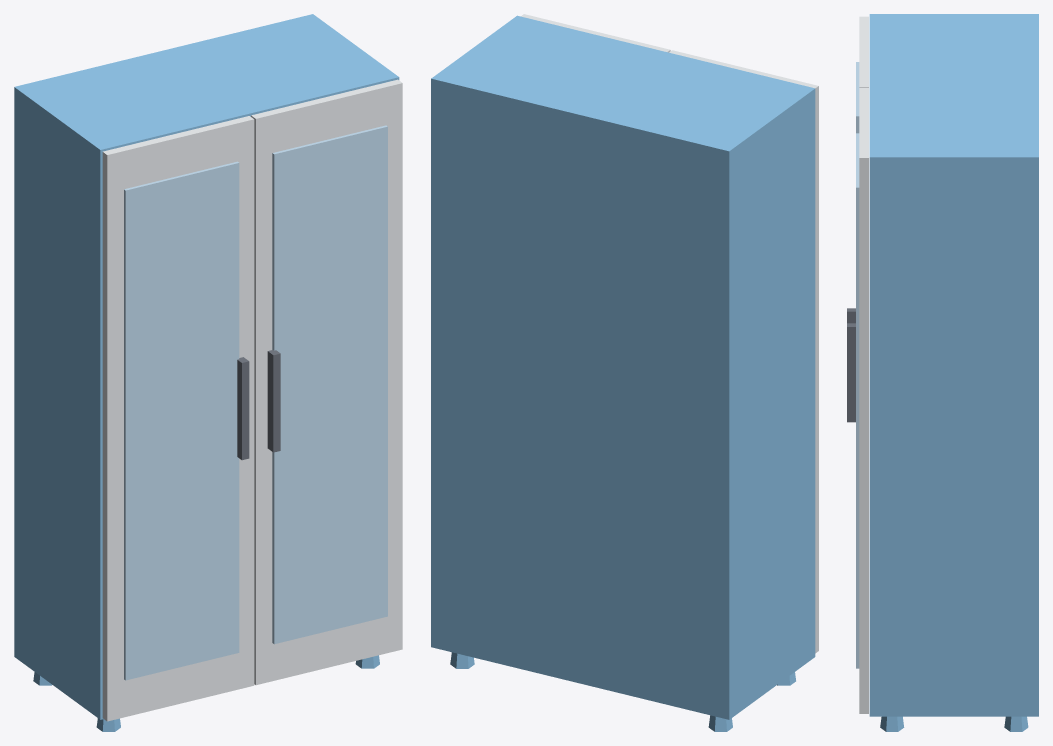
The model's file is lemari.fbx.
The picture shows the model from 3 angles, left to right: view 1: azimuth 30°, elevation 25°; view 2: azimuth 150°, elevation 25°; view 3: azimuth 270°, elevation 25°; orthographic projection.
Visible parts, largest first — view 1: Lemari_Plastik_LowPoly; view 2: Lemari_Plastik_LowPoly; view 3: Lemari_Plastik_LowPoly.
Part boxes in pixels (box(x1,y1,x2,y2)): Lemari_Plastik_LowPoly: box(14, 14, 402, 731); Lemari_Plastik_LowPoly: box(431, 14, 818, 731); Lemari_Plastik_LowPoly: box(847, 14, 1038, 731).
Bounding box in the file's own units: 90 × 170 × 51.
